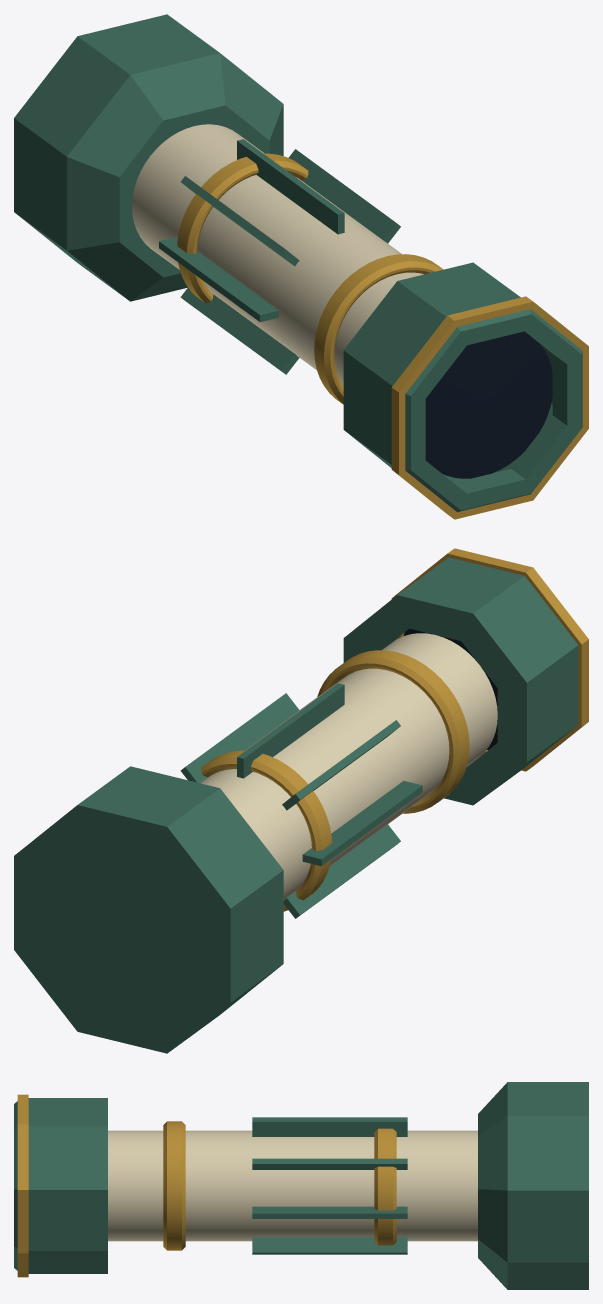
Rendered from pd3_emitter.obj.
The picture shows the model from 3 angles, top to bottom: view 1: azimuth 30°, elevation 25°; view 2: azimuth 150°, elevation 25°; view 3: azimuth 270°, elevation 25°; orthographic projection. The views are drawn at different scales.
Visible parts, largest first — view 1: pd3_emitter; view 2: pd3_emitter; view 3: pd3_emitter.
Boxes of the visible parts, left/top/right/bottom form: pd3_emitter: left=14, top=14, right=588, bottom=519; pd3_emitter: left=14, top=548, right=588, bottom=1053; pd3_emitter: left=14, top=1082, right=588, bottom=1289.
Bounding box in the file's own units: 0.52 × 0.52 × 1.55.
